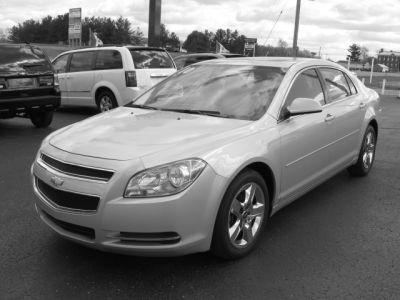car: (30, 56, 382, 262)
